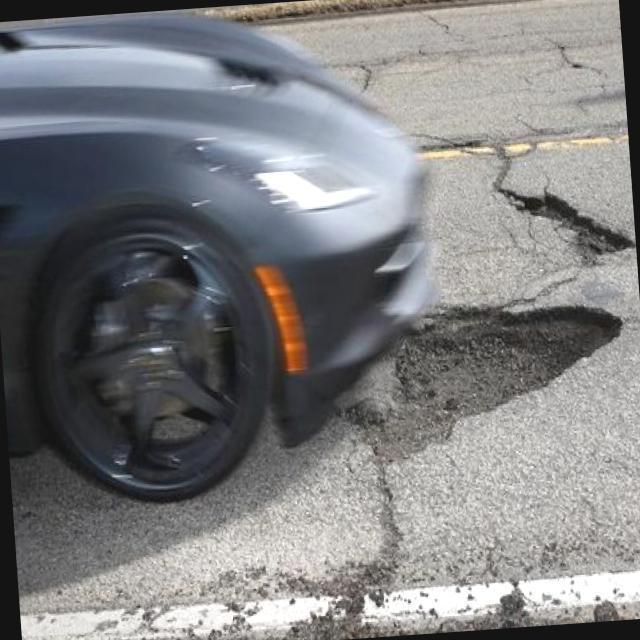Pothole: (366, 303, 618, 471), (503, 187, 635, 265)
